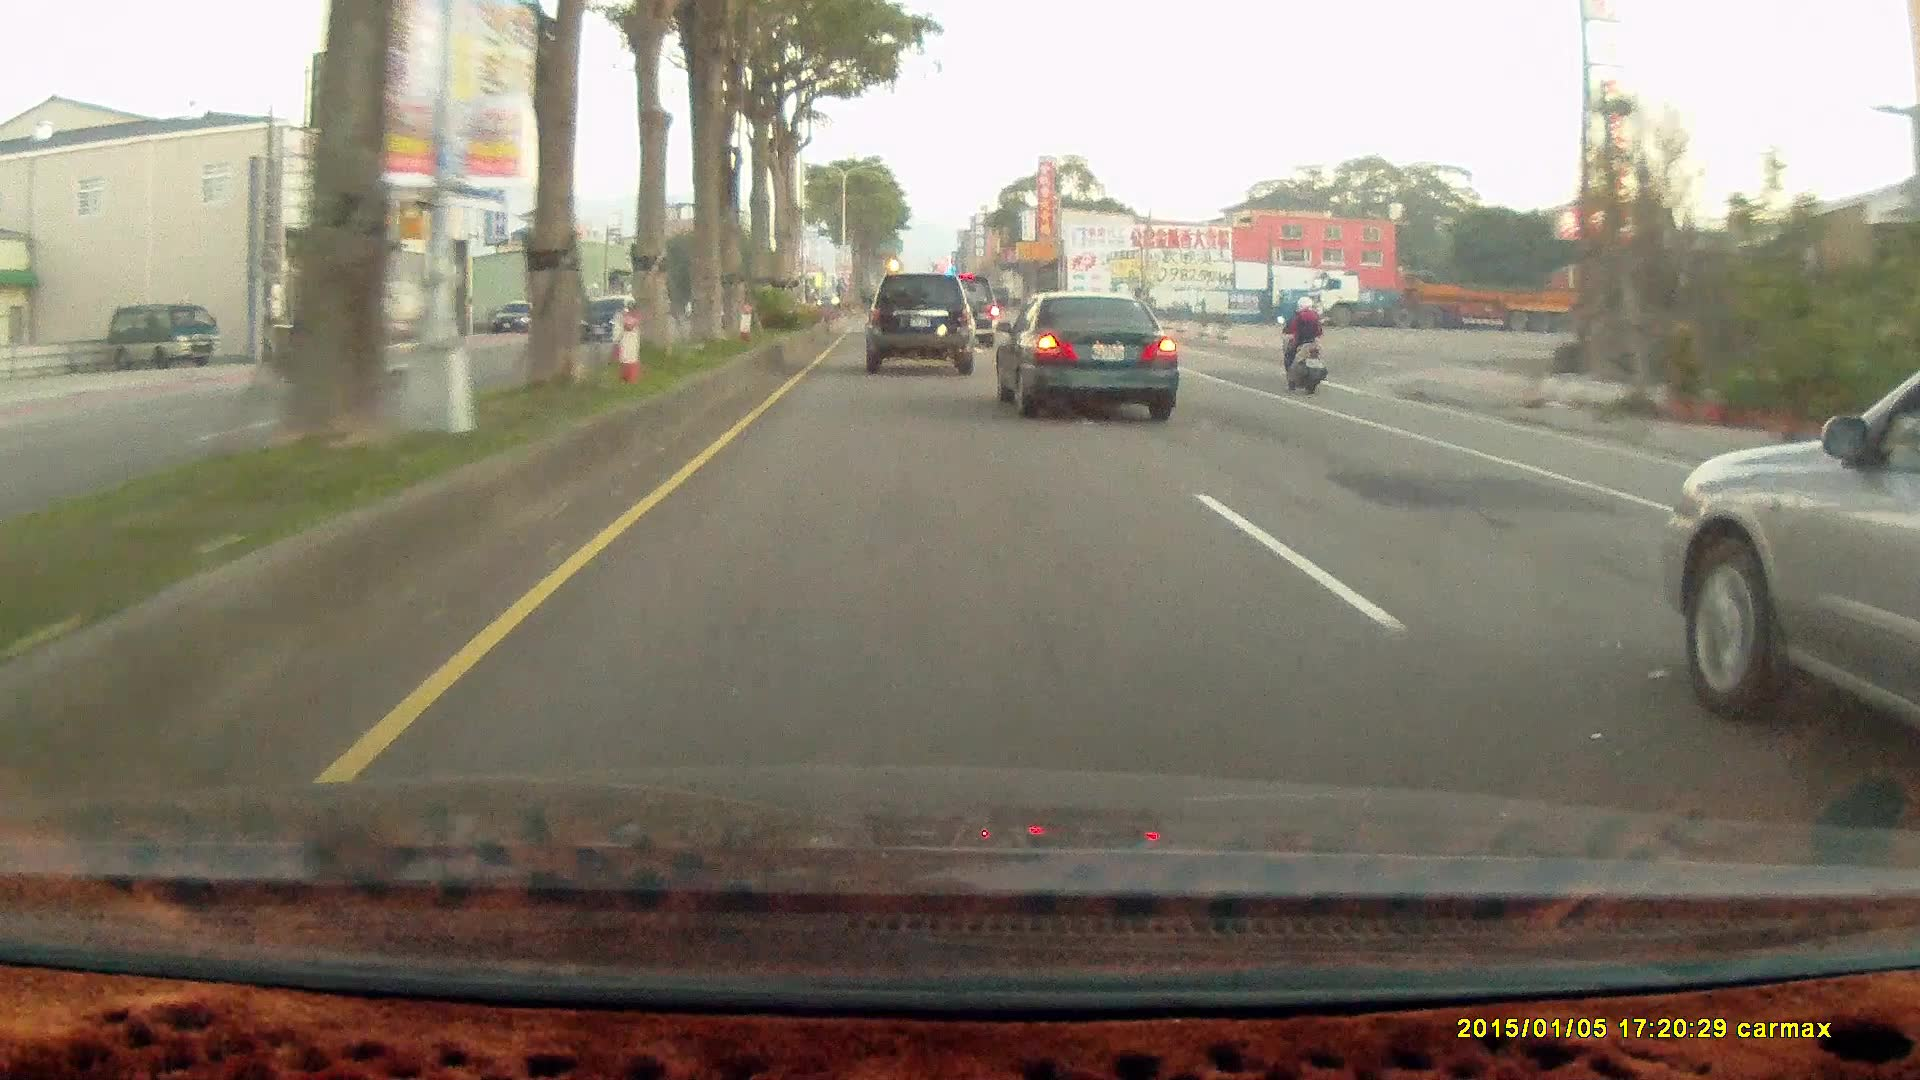rider: (1271, 288, 1337, 403), (1277, 286, 1329, 388)
vehicle: (1676, 360, 1919, 767), (992, 291, 1183, 419), (994, 287, 1178, 415), (274, 282, 438, 408), (1316, 268, 1583, 332), (866, 270, 978, 373), (864, 270, 976, 371), (107, 304, 221, 373), (106, 303, 219, 371), (929, 272, 1001, 347), (575, 290, 647, 342), (490, 296, 541, 331)
